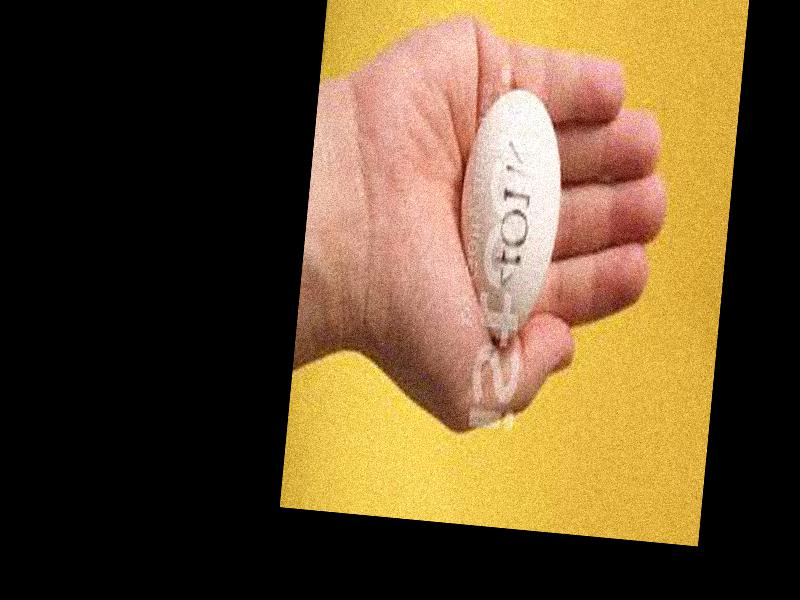Eggs: (450, 85, 569, 344)
